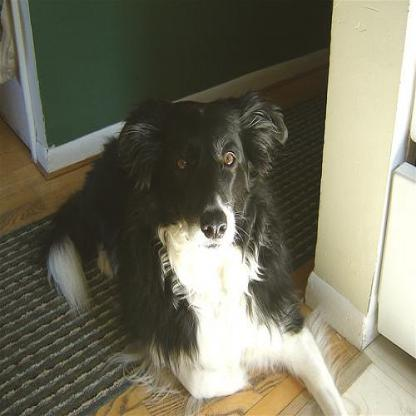Border_collie: (45, 90, 344, 413)
